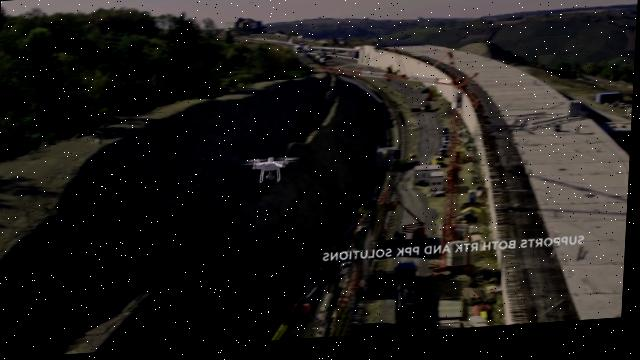drone: (239, 157, 302, 188)
